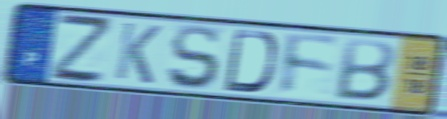B: (331, 36, 398, 104)
D: (221, 27, 280, 95)
F: (279, 30, 342, 99)
K: (112, 19, 164, 86)
S: (165, 23, 221, 93)
Z: (48, 10, 113, 85)
